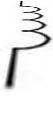inductor: (9, 1, 51, 56)
